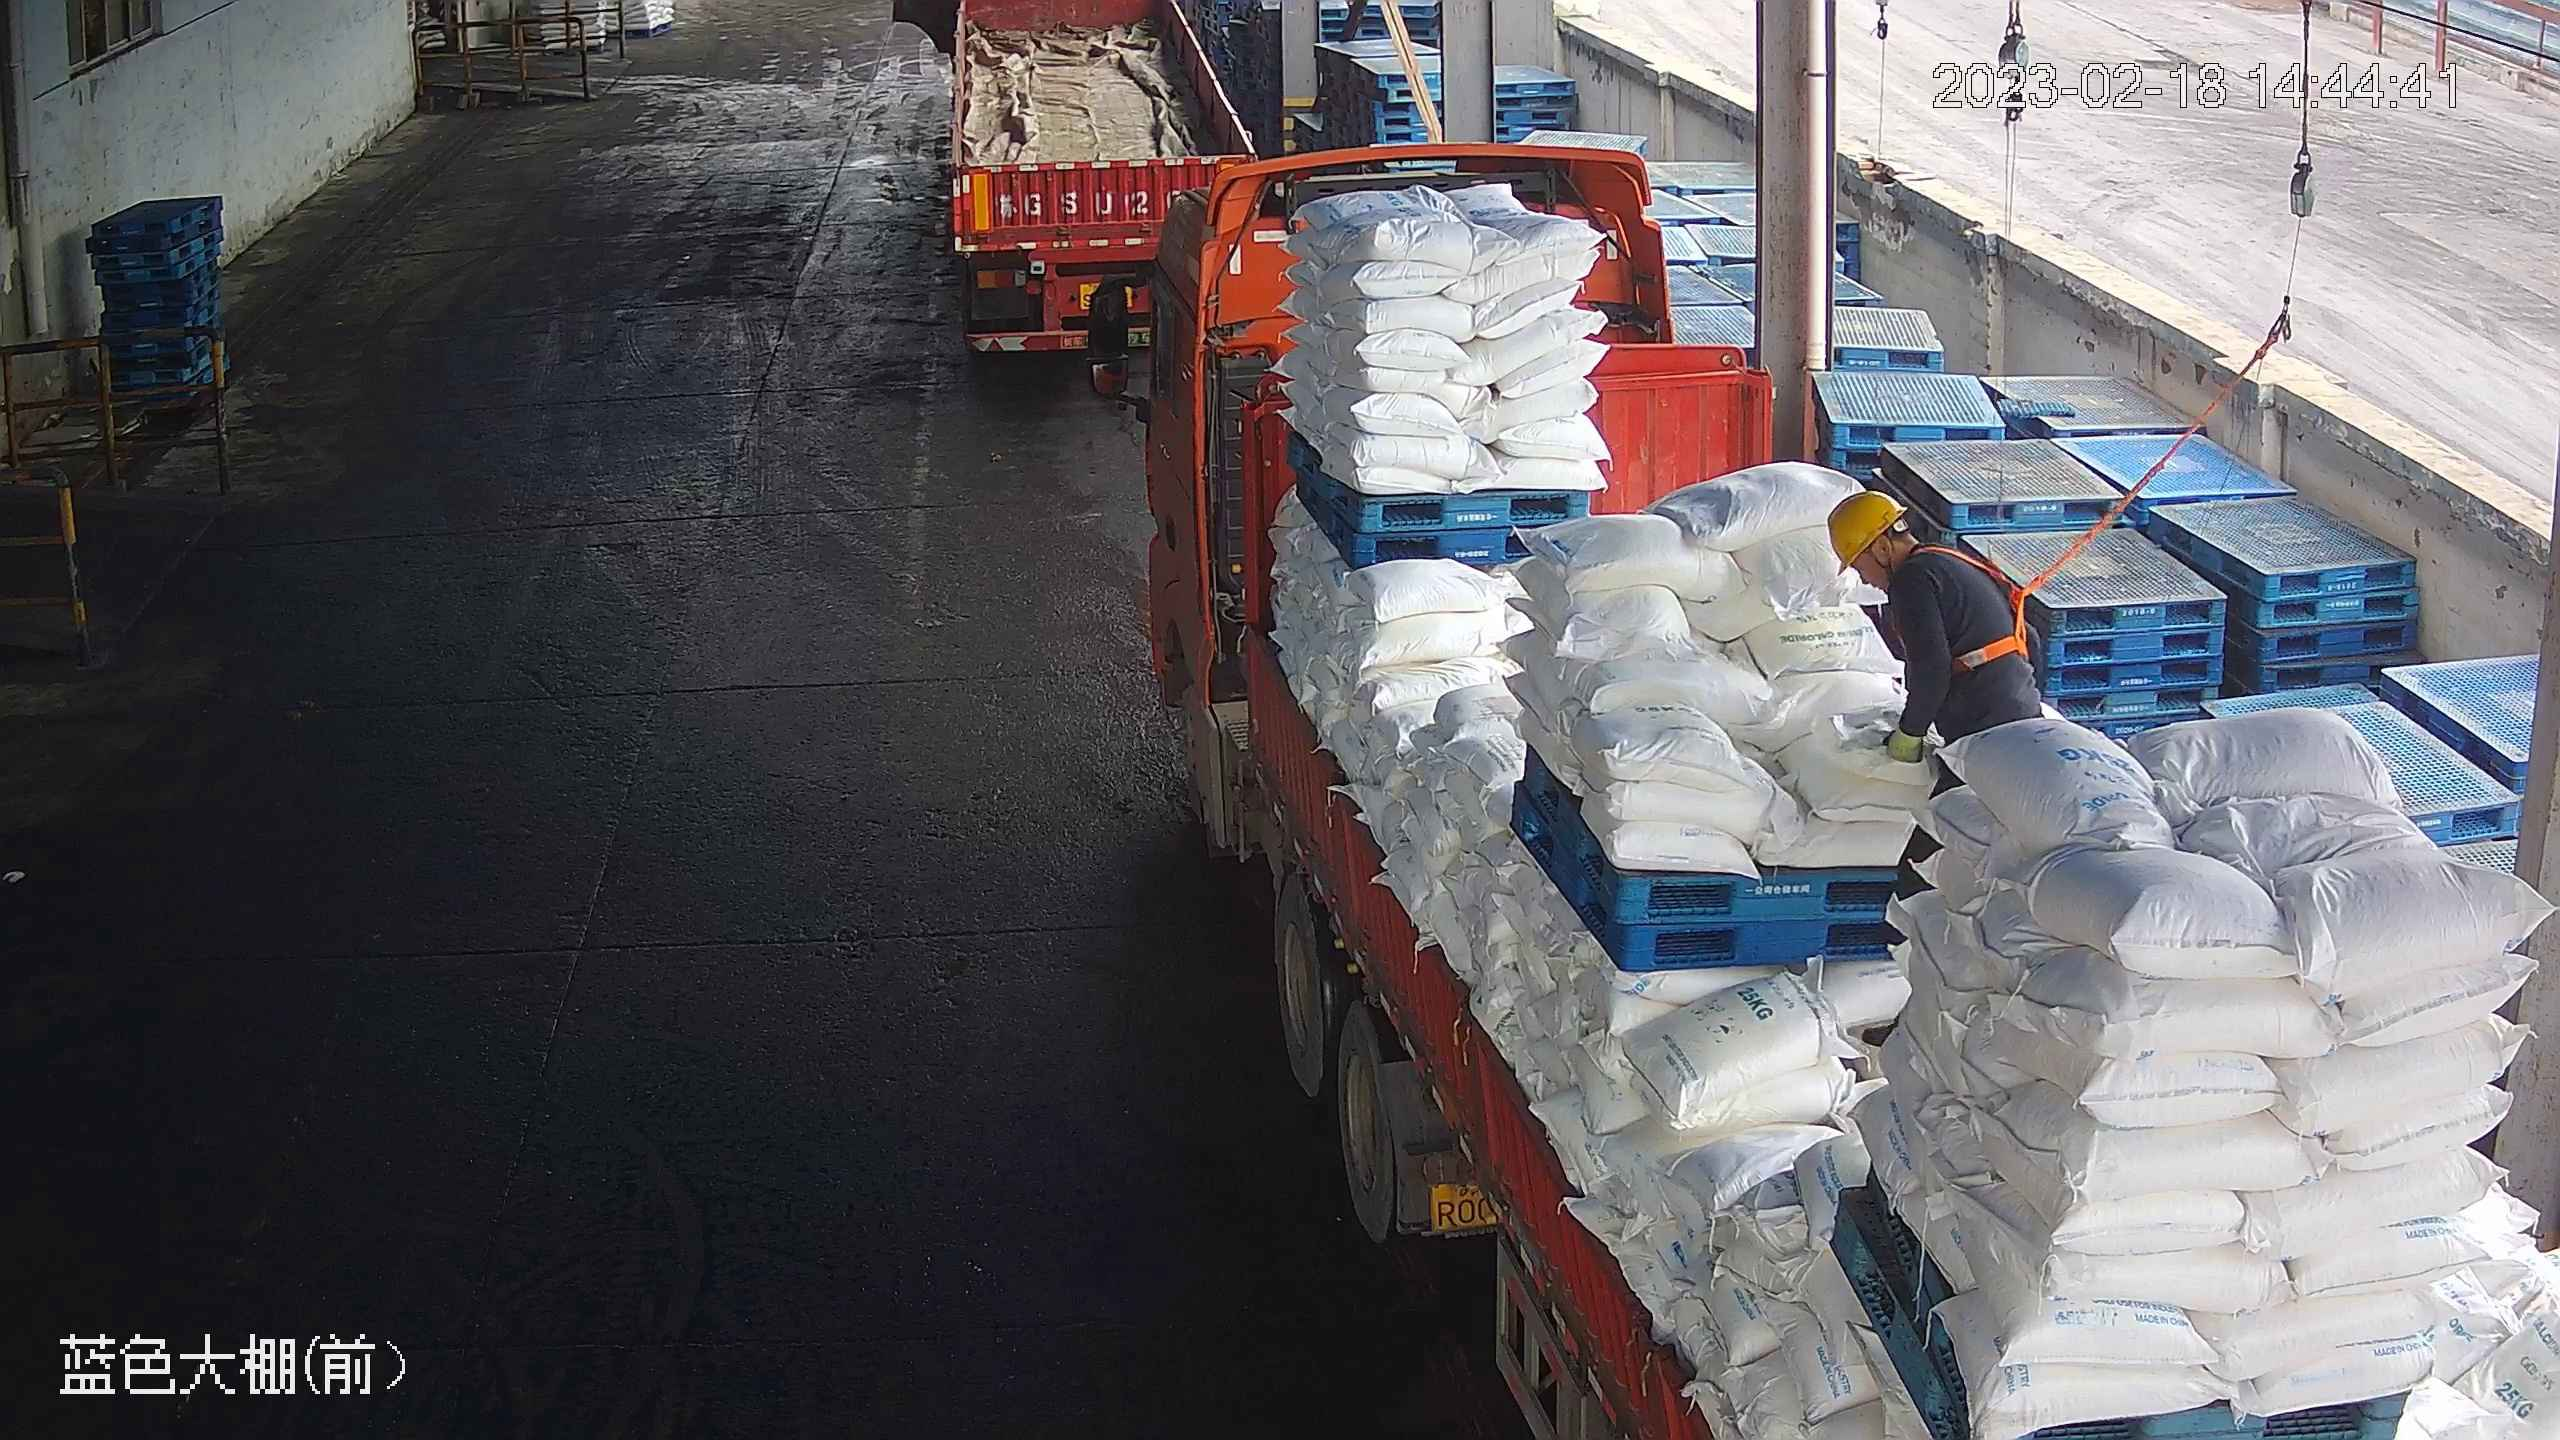belt: (1907, 538, 2040, 674)
head: (1825, 490, 2003, 625)
helmet: (1824, 489, 1904, 572)
people: (1827, 494, 2050, 907)
truck: (1086, 139, 2548, 1435), (890, 2, 1260, 357)
